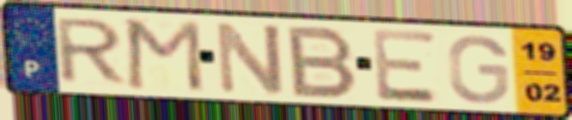B: (286, 24, 361, 100)
E: (369, 26, 442, 105)
G: (445, 32, 512, 106)
M: (123, 17, 207, 95)
N: (213, 19, 288, 97)
R: (54, 16, 131, 87)
